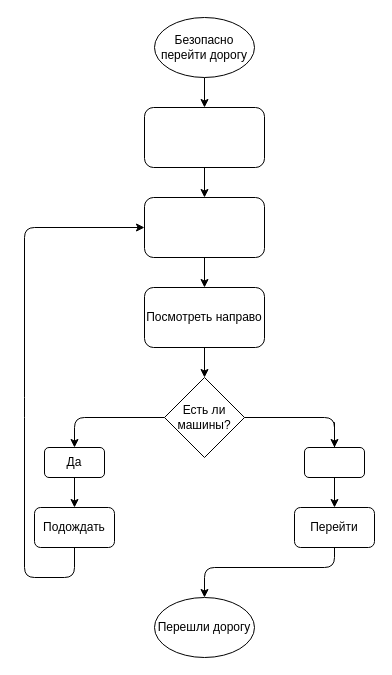
Image size: 392x675. Some labels were removed from this diagram. The centre of each missing label's shape, as x and y in pixels:
"Нет" belongs at [334,462].
"Подойти к пешеходному переходу" belongs at [204,137].
"Посмотреть налево" belongs at [204,227].
